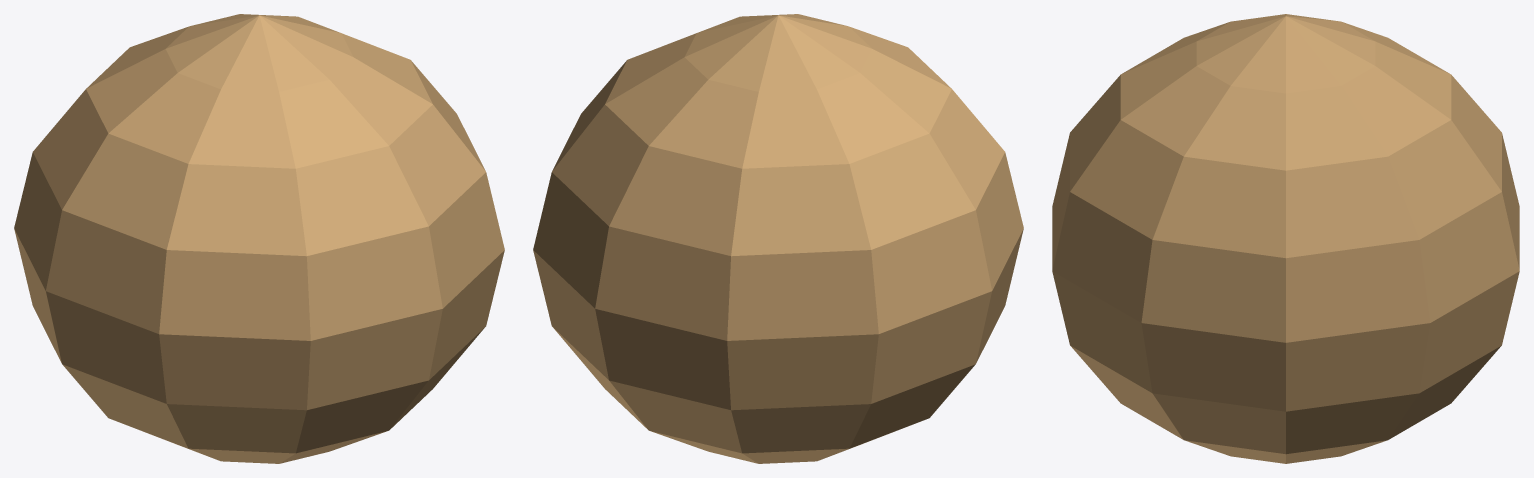
File: sphere_leaf2_orange.gltf
The picture shows the model from 3 angles, left to right: view 1: azimuth 30°, elevation 25°; view 2: azimuth 150°, elevation 25°; view 3: azimuth 270°, elevation 25°; orthographic projection.
Visible parts, largest first — view 1: mesh; view 2: mesh; view 3: mesh.
Boxes of the visible parts, x1,y1,x2,y2 form: mesh: (14,14,504,463); mesh: (533,14,1023,463); mesh: (1052,14,1519,463).
Size of the model in its own units: 1.2 by 1.2 by 1.14.
